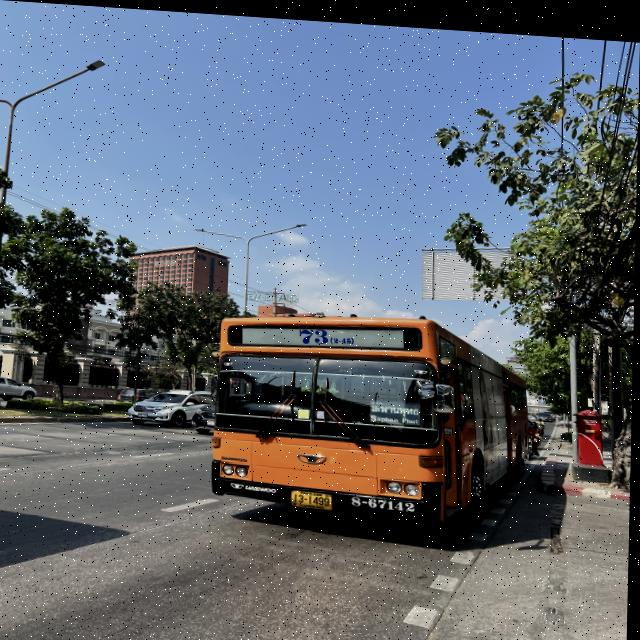BMTA-bus: (212, 301, 535, 523)
Bus-Line-Number: (294, 317, 363, 347)
Destination-Sign-Normal: (368, 393, 425, 421)
